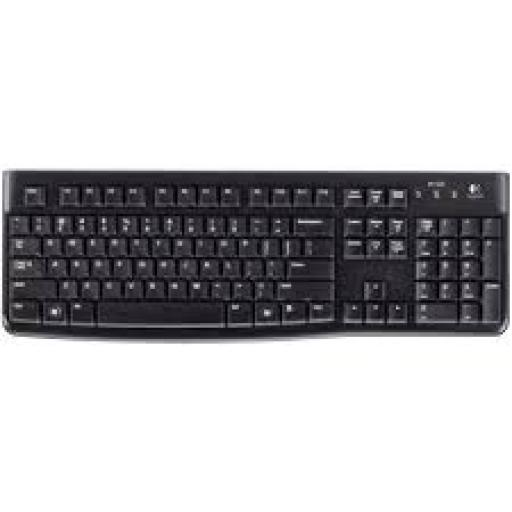KEYBOARD-2: (2, 171, 507, 339)
